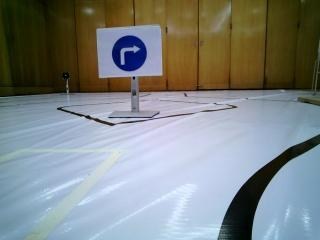right: (99, 29, 160, 75)
